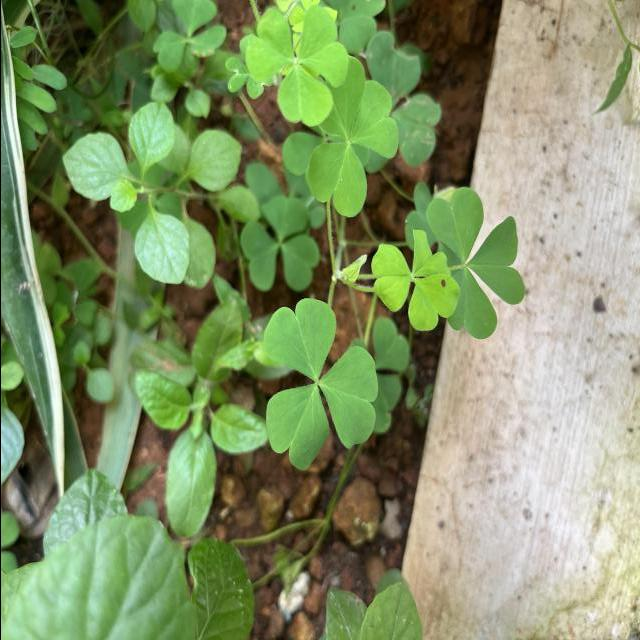Oxalis corniculata: (260, 295, 378, 473), (424, 186, 524, 342), (306, 54, 400, 219), (244, 4, 348, 127), (368, 226, 462, 334), (238, 195, 320, 292)
